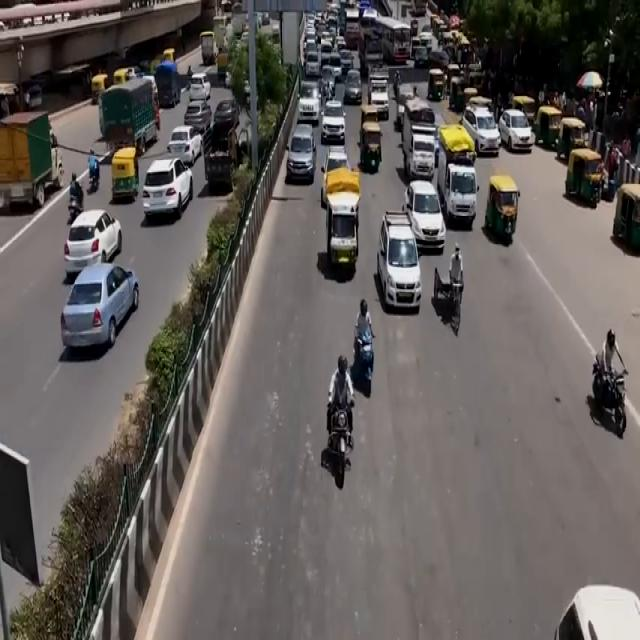MOTORCYCLE: (331, 396, 353, 489), (609, 374, 631, 441)
TRUCK: (0, 109, 58, 213), (434, 126, 476, 225)
